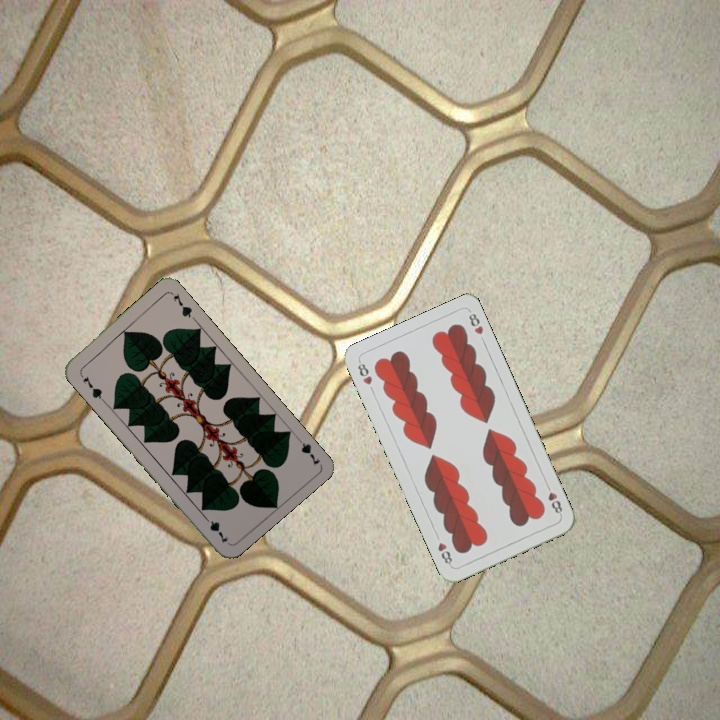G7: (291, 432, 323, 468), (76, 368, 106, 403)
H8: (542, 480, 565, 518), (354, 357, 375, 388)
